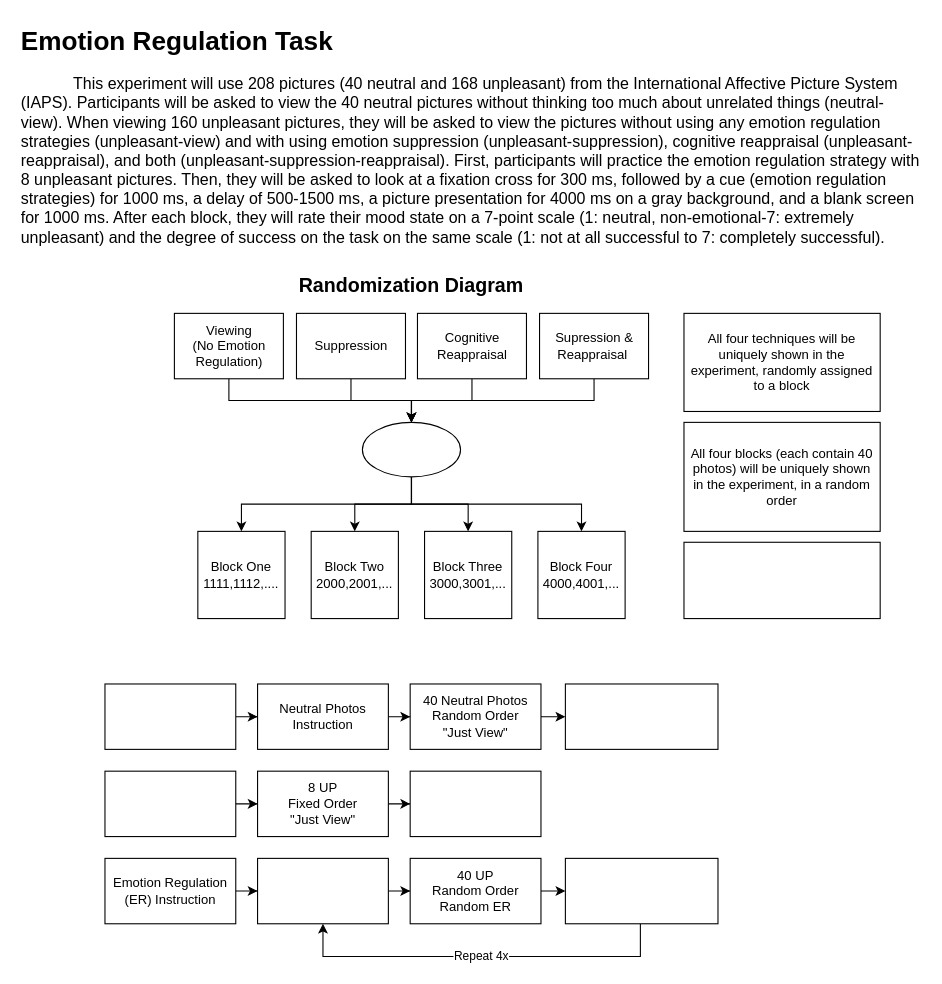
This 942x984 diagram has some shape labels left out. The shapes that lost their labels are listed below. From the top down, each one's box as (x1, y1, x2, y2) in pixels, then its label:
(361, 421, 461, 477): Randomize
(683, 541, 880, 619): The photos within each block are in a random order
(104, 683, 236, 749): Introduction
(564, 683, 718, 749): 5 State Measure: Pain, Pain Unpleasantness, SAM
(104, 770, 236, 837): 8 Unpleasant Photos (UP) Instruction
(409, 770, 541, 837): 8 UP Complete Continue or Stop? Instruction
(256, 857, 388, 924): 4 Blocks of U.P. Instruction
(564, 857, 718, 924): 6 State Measure: ER Success, Pain, Pain Unpleasantness, SAM
